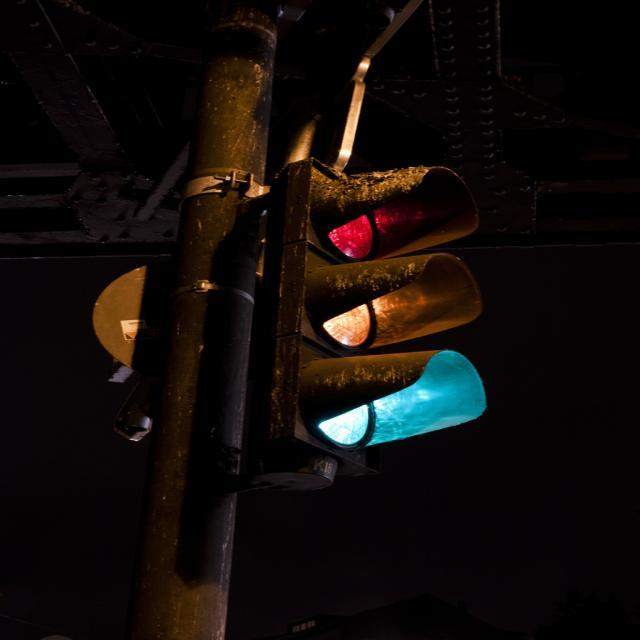traffic light: (261, 158, 489, 495)
